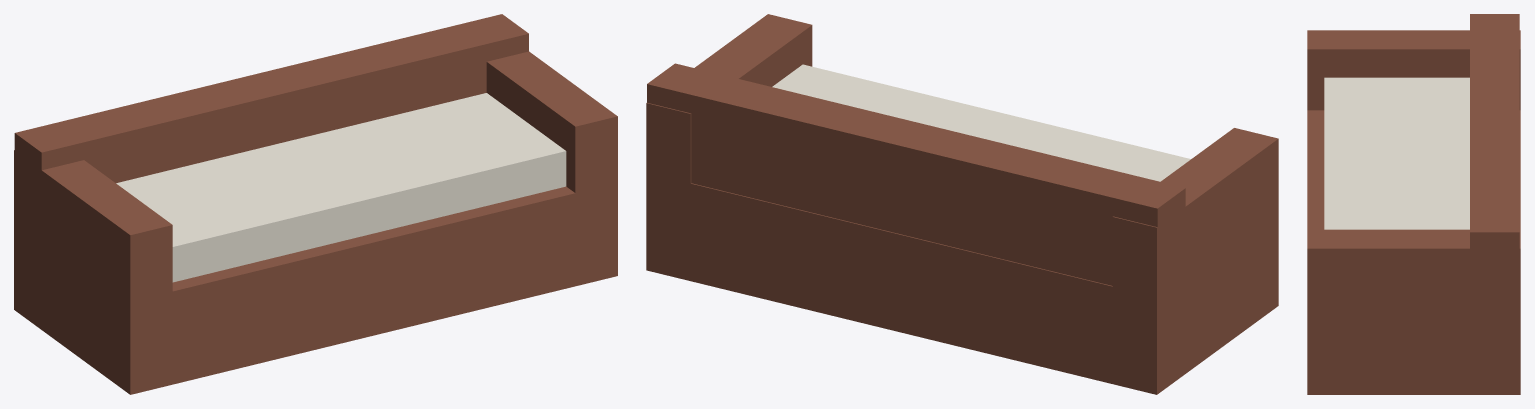
Rendered from mod_sofa.glb.
3 views of the same model, side by side, from view 1: azimuth 30°, elevation 25°; view 2: azimuth 150°, elevation 25°; view 3: azimuth 270°, elevation 25° (orthographic). The views are drawn at different scales.
Visible parts, largest first — view 1: Mod_Sofa; view 2: Mod_Sofa; view 3: Mod_Sofa.
Part boxes in pixels (left/top/right/bottom): Mod_Sofa: left=14, top=14, right=617, bottom=394; Mod_Sofa: left=646, top=14, right=1278, bottom=394; Mod_Sofa: left=1307, top=14, right=1520, bottom=394.
Bounding box in the file's own units: 2.3 × 0.8 × 0.95.
